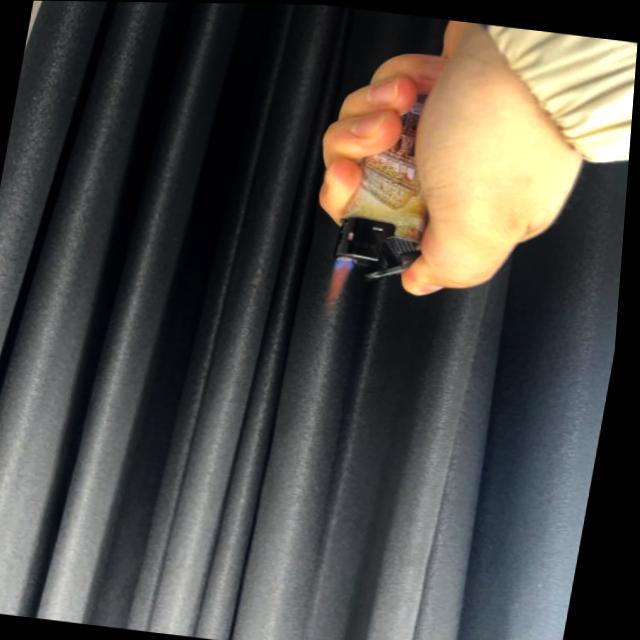Fire: (324, 253, 358, 311)
